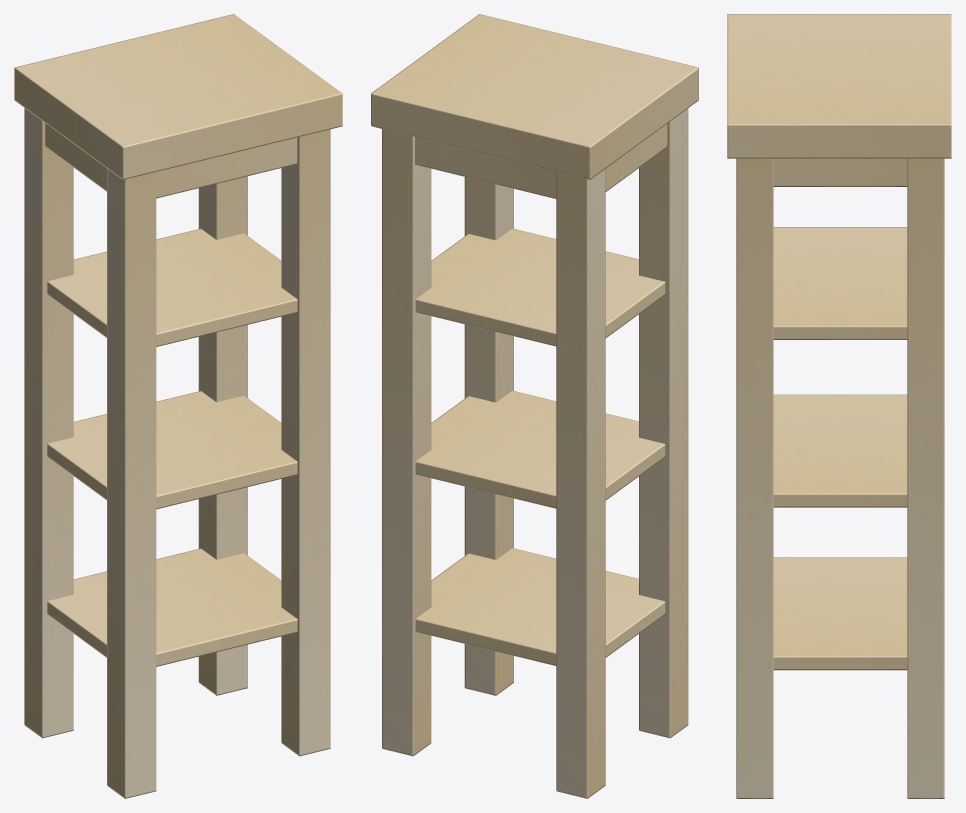
Rendered from SM_Zhiwujia.fbx.
3 views of the same model, side by side, from view 1: azimuth 30°, elevation 25°; view 2: azimuth 150°, elevation 25°; view 3: azimuth 270°, elevation 25° (orthographic). The views are drawn at different scales.
Parts seen in each view (by area): view 1: SM_Zhiwujia; view 2: SM_Zhiwujia; view 3: SM_Zhiwujia.
Boxes of the visible parts, bbox=[...] form: SM_Zhiwujia: bbox=[14, 14, 342, 798]; SM_Zhiwujia: bbox=[371, 14, 698, 798]; SM_Zhiwujia: bbox=[727, 14, 951, 798].
Bounding box in the file's own units: 35 × 100 × 30.
